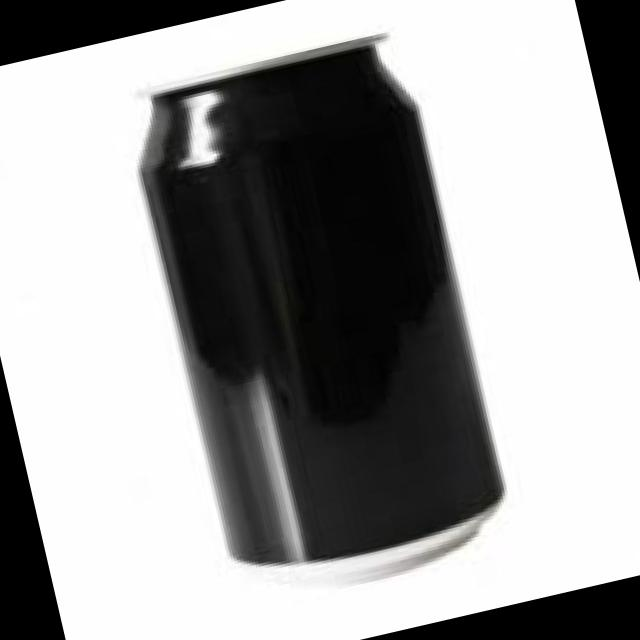Kaleng: (118, 26, 518, 597)
